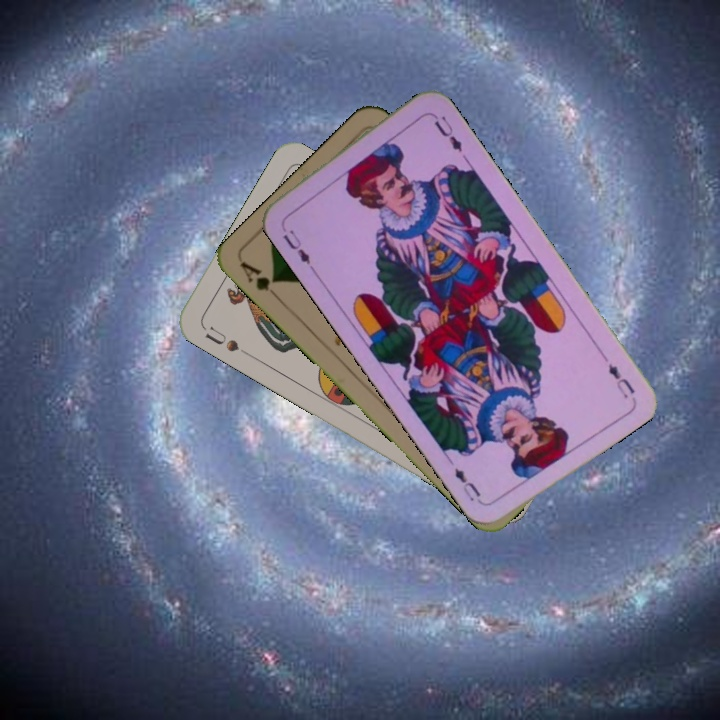EU: (277, 219, 316, 272), (604, 360, 638, 402)
GA: (236, 258, 284, 304)
SU: (201, 322, 253, 357)
